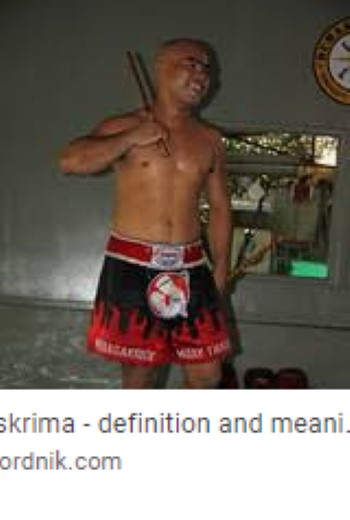baston_e: (124, 58, 172, 147), (230, 240, 271, 286)
baston_v: (154, 139, 179, 161), (122, 45, 137, 65), (267, 235, 281, 249)
